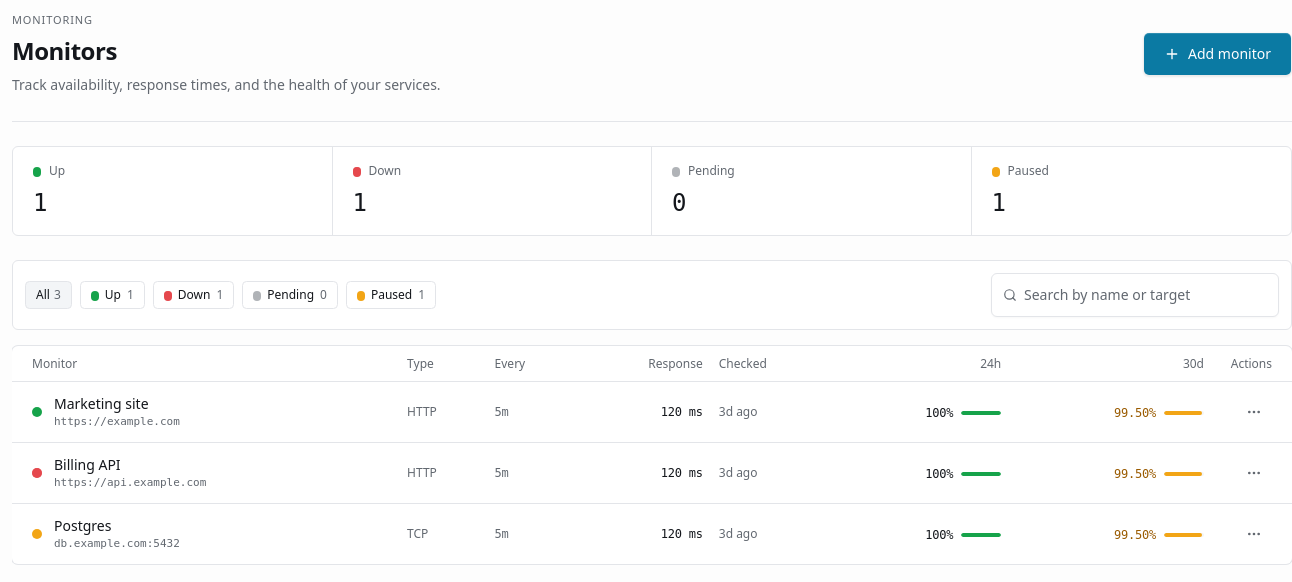
Test: Monitors list › narrows the list by state and by search
Check: the link "Marketing site" is shown, box [54,394,148,413]
Check: the link "Billing API" is shown, box [54,455,121,474]
Click the button "Down 1" at (194, 295), box [153,281,234,309]
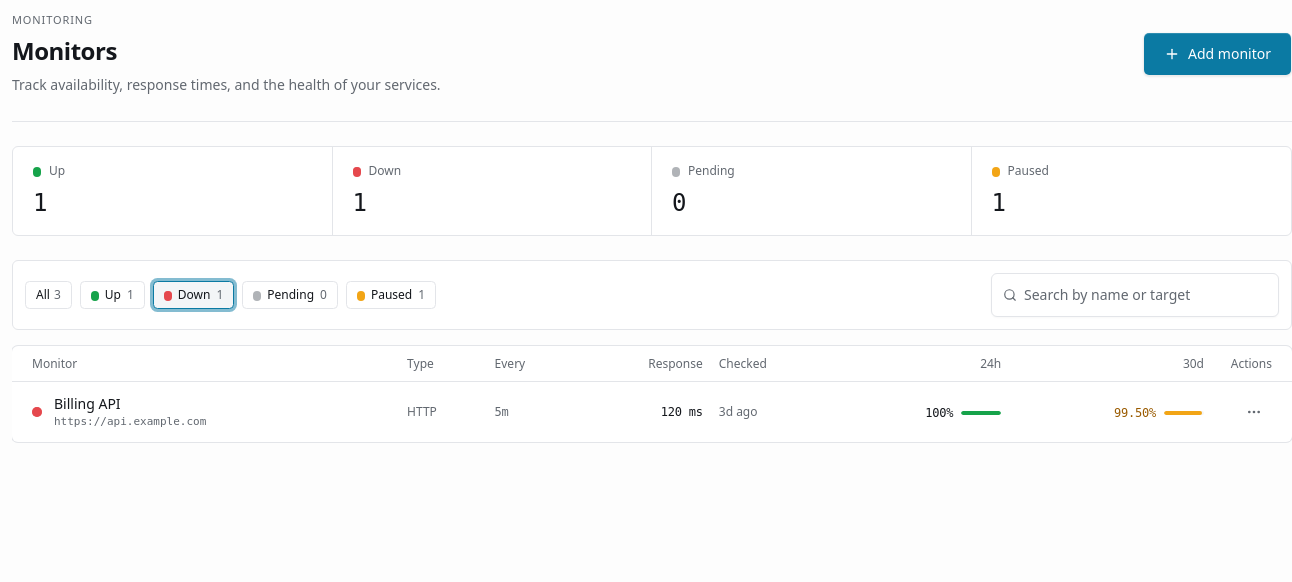
Check: the link "Billing API" is shown, box [54,394,121,413]
Check: the link "Marketing site" is gone
Check: the link "Postgres" is gone
Click the button "All 3" at (48, 295), box [25,281,72,309]
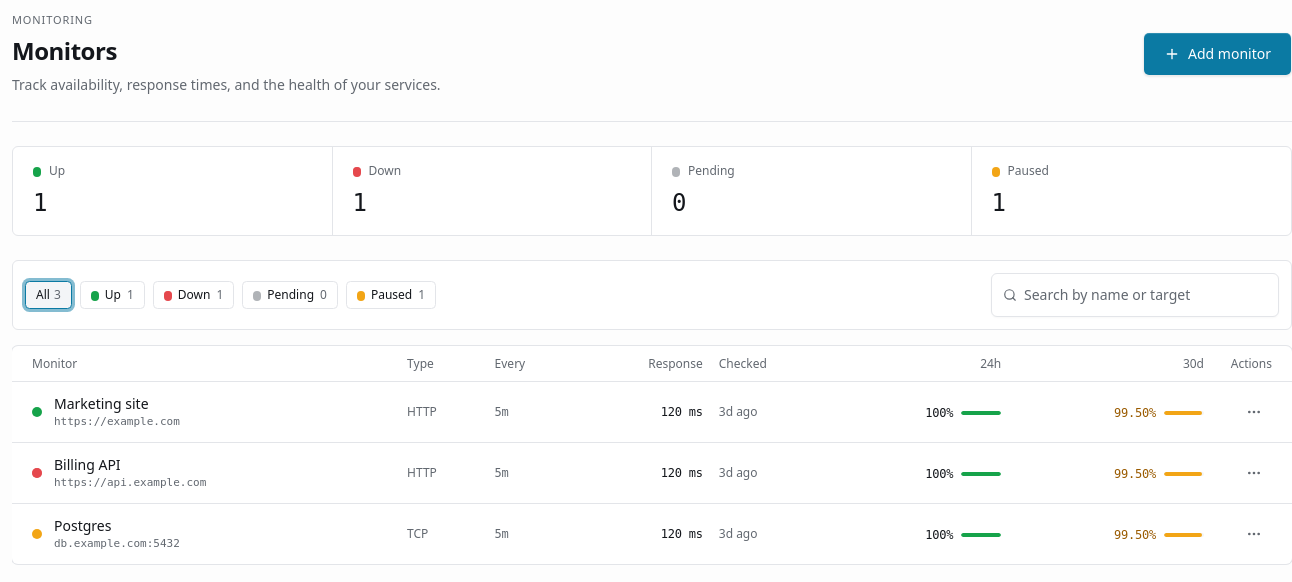
Type "5432" into the search field named "Search monitors" at (1135, 295), box [991,273,1279,317]
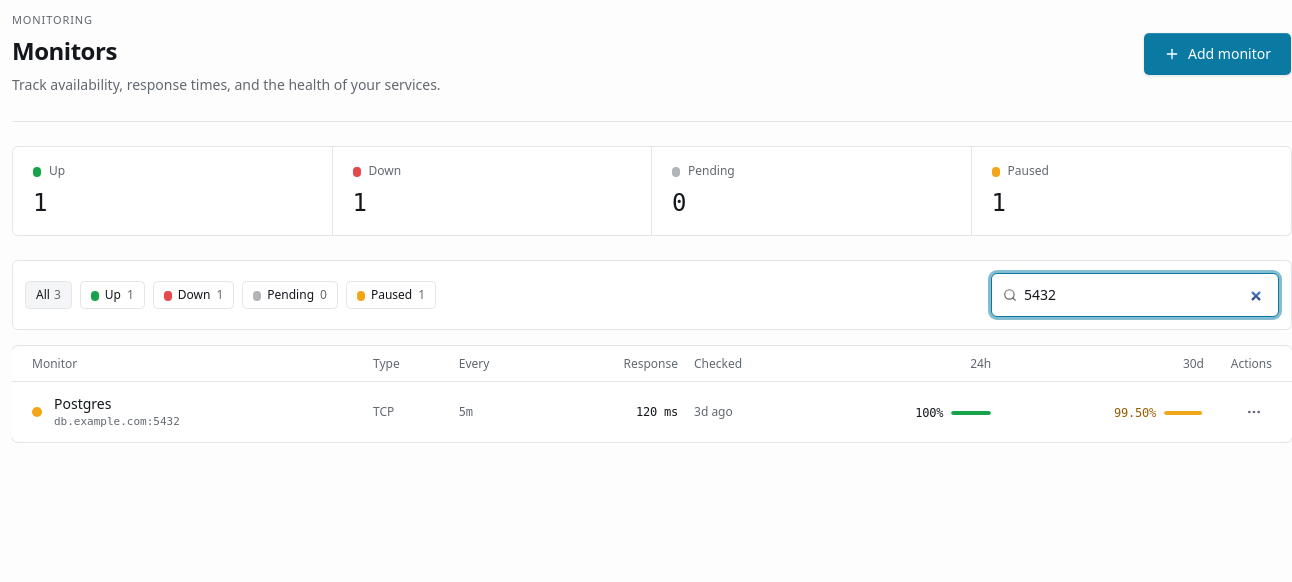
Check: the link "Postgres" is shown, box [54,394,111,413]
Check: the link "Billing API" is gone
